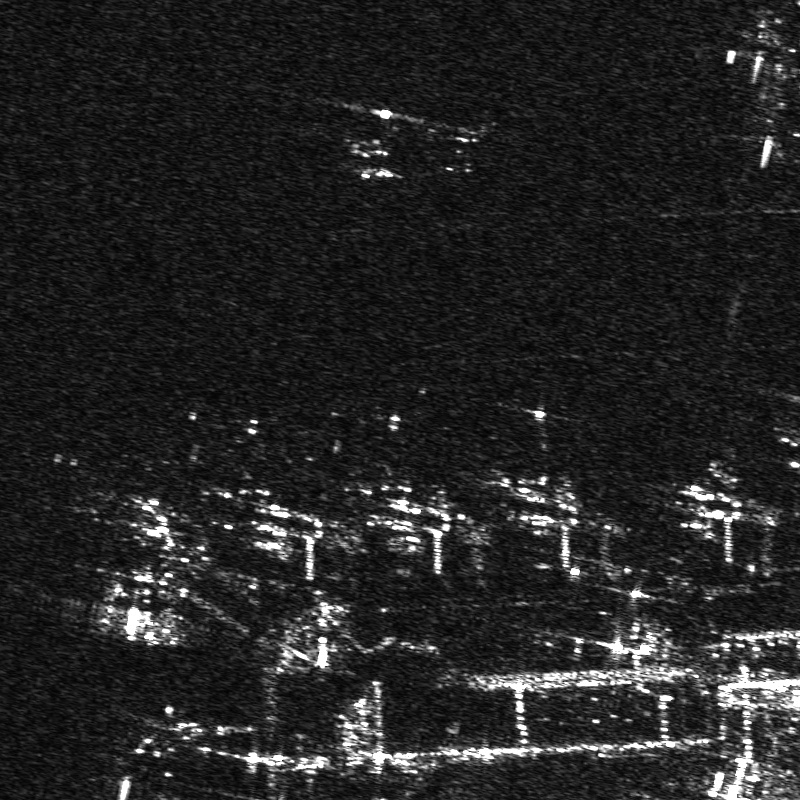A220: (428, 115, 493, 176)
other: (316, 95, 426, 188)
